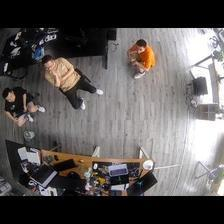normal: (1, 87, 44, 126), (126, 39, 155, 80)
